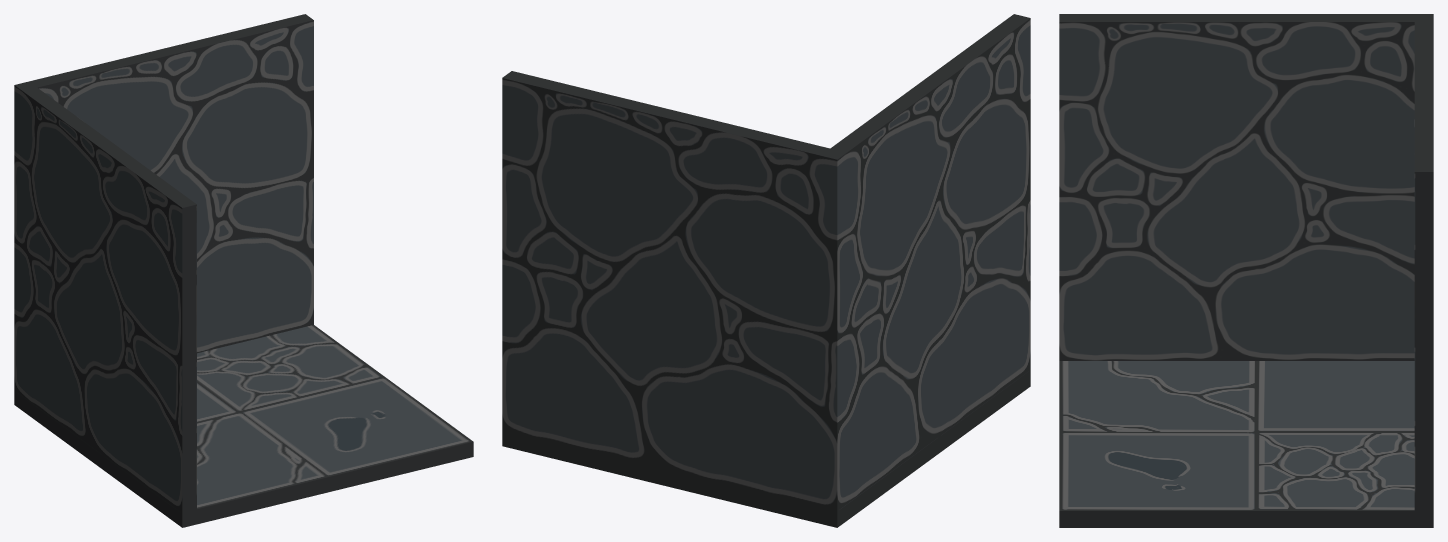
File: Wall-NW_v1.1.fbx
3 views of the same model, side by side, from view 1: azimuth 30°, elevation 25°; view 2: azimuth 150°, elevation 25°; view 3: azimuth 270°, elevation 25° (orthographic). The views are drawn at different scales.
Visible parts, largest first — view 1: Wall-W.001; view 2: Wall-W.001; view 3: Wall-W.001.
Boxes of the visible parts, box(x1,y1,x2,y2) form: Wall-W.001: box(14, 14, 473, 527); Wall-W.001: box(502, 14, 1030, 527); Wall-W.001: box(1059, 14, 1433, 527).
Bounding box in the file's own units: 100 × 100 × 105.
